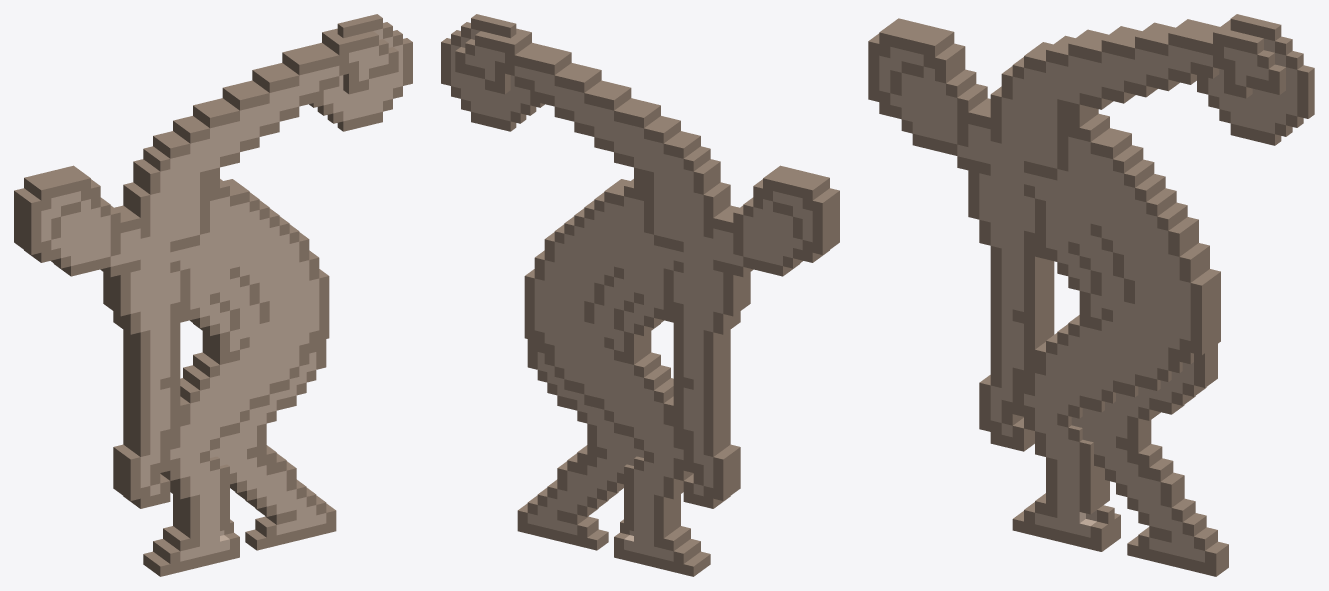
The model's file is Discobolus.fbx.
3 views of the same model, side by side, from view 1: azimuth 30°, elevation 25°; view 2: azimuth 150°, elevation 25°; view 3: azimuth 330°, elevation 25° (orthographic). The views are drawn at different scales.
Parts seen in each view (by area): view 1: generated; view 2: generated; view 3: generated.
Part boxes in pixels (left/top/right/bottom): generated: left=14, top=14, right=412, bottom=576; generated: left=441, top=14, right=839, bottom=576; generated: left=868, top=14, right=1314, bottom=576.
Bounding box in the file's own units: 19.5 × 24 × 1.5.
